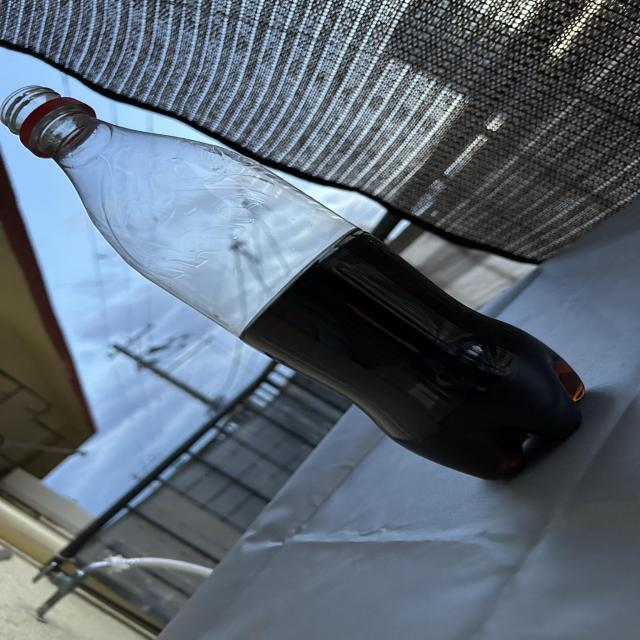medium: (0, 87, 584, 479)
